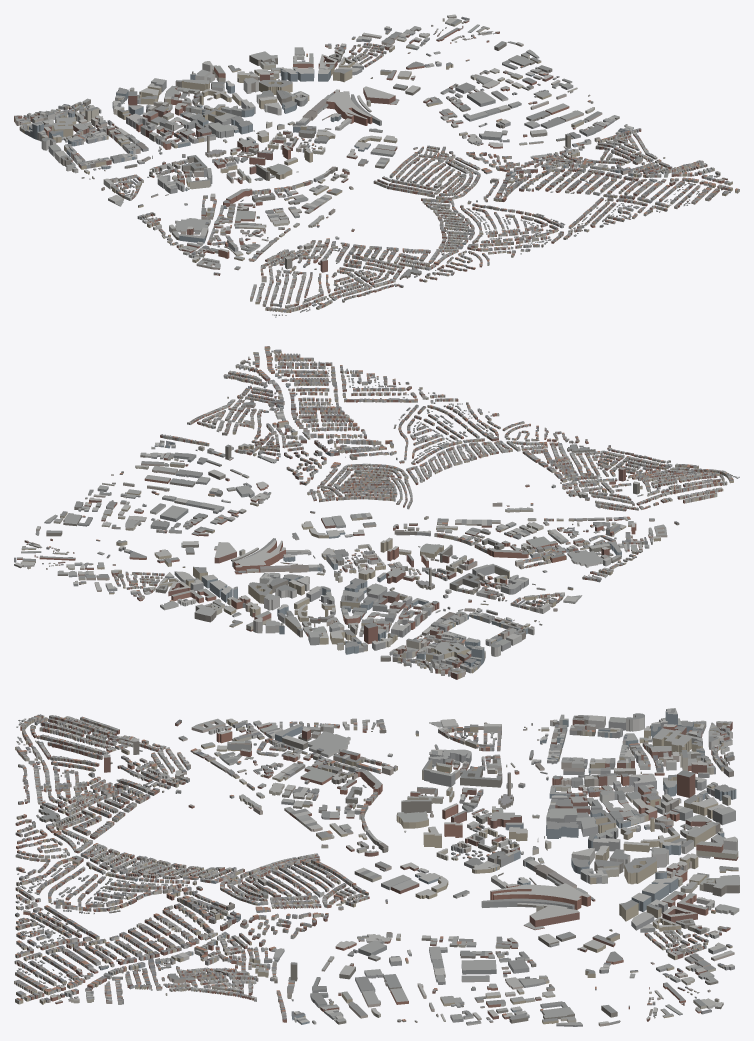
File: buildings_b0_2_1.glb
The picture shows the model from 3 angles, top to bottom: view 1: azimuth 30°, elevation 25°; view 2: azimuth 150°, elevation 25°; view 3: azimuth 270°, elevation 25°; orthographic projection. The views are drawn at different scales.
Visible parts, largest first — view 1: t08_07_buildings_b0, t09_07_buildings_b0, t11_04_buildings_b0, t08_05_buildings_b0, t08_04_buildings_b0, t10_07_buildings_b0, t10_05_buildings_b0, t10_04_buildings_b0, t09_04_buildings_b0, t09_06_buildings_b0, t11_05_buildings_b0, t11_06_buildings_b0 (+4 smaller); view 2: t08_07_buildings_b0, t09_07_buildings_b0, t11_04_buildings_b0, t08_04_buildings_b0, t08_05_buildings_b0, t10_07_buildings_b0, t10_05_buildings_b0, t10_04_buildings_b0, t11_05_buildings_b0, t09_06_buildings_b0, t09_04_buildings_b0, t11_06_buildings_b0 (+4 smaller); view 3: t08_07_buildings_b0, t09_07_buildings_b0, t10_07_buildings_b0, t11_04_buildings_b0, t08_05_buildings_b0, t08_04_buildings_b0, t10_05_buildings_b0, t10_04_buildings_b0, t09_04_buildings_b0, t09_06_buildings_b0, t11_05_buildings_b0, t11_06_buildings_b0 (+4 smaller).
Part boxes in pixels (x1,y1,x2,y2): t08_07_buildings_b0: (14, 87, 190, 172); t09_07_buildings_b0: (129, 61, 296, 143); t11_04_buildings_b0: (562, 150, 739, 219); t08_05_buildings_b0: (142, 188, 299, 269); t08_04_buildings_b0: (213, 238, 388, 317); t10_07_buildings_b0: (249, 36, 420, 114); t10_05_buildings_b0: (375, 142, 550, 211); t10_04_buildings_b0: (440, 172, 624, 257); t09_04_buildings_b0: (335, 212, 499, 288); t09_06_buildings_b0: (205, 117, 368, 183); t11_05_buildings_b0: (479, 110, 648, 174); t11_06_buildings_b0: (440, 57, 594, 135); t08_07_buildings_b0: (345, 598, 534, 679); t09_07_buildings_b0: (229, 574, 412, 650); t11_04_buildings_b0: (222, 346, 378, 427); t08_04_buildings_b0: (562, 450, 739, 525); t08_05_buildings_b0: (482, 516, 667, 577); t10_07_buildings_b0: (109, 542, 290, 622); t10_05_buildings_b0: (256, 433, 431, 520); t10_04_buildings_b0: (316, 376, 499, 469); t11_05_buildings_b0: (140, 406, 315, 498); t09_06_buildings_b0: (308, 522, 466, 592); t09_04_buildings_b0: (437, 421, 617, 488); t11_06_buildings_b0: (60, 465, 236, 533); t08_07_buildings_b0: (547, 708, 736, 802); t09_07_buildings_b0: (546, 789, 738, 874); t10_07_buildings_b0: (529, 856, 739, 952); t11_04_buildings_b0: (14, 928, 197, 1004); t08_05_buildings_b0: (191, 718, 382, 804); t08_04_buildings_b0: (15, 714, 197, 795); t10_05_buildings_b0: (192, 862, 376, 950); t10_04_buildings_b0: (15, 866, 197, 934); t09_04_buildings_b0: (15, 787, 195, 872); t09_06_buildings_b0: (372, 772, 555, 873); t11_05_buildings_b0: (194, 929, 386, 1024); t11_06_buildings_b0: (368, 946, 567, 1025).
Size of the model in its own units: 2023 by 91.16 by 2036.
